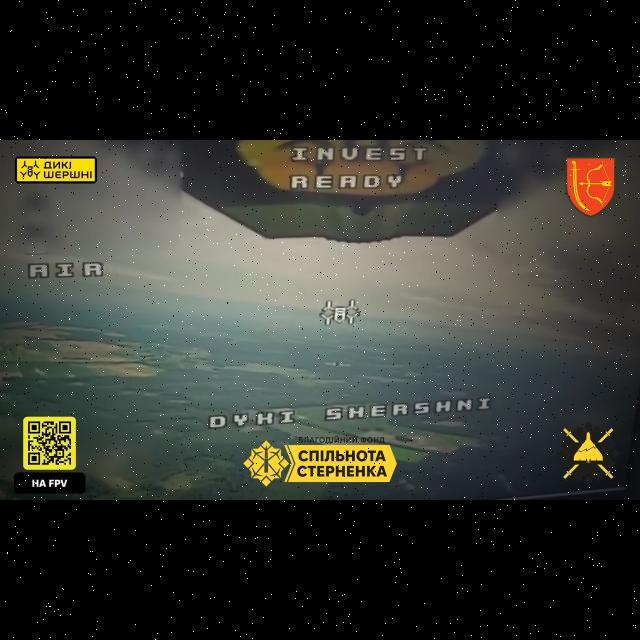Gerbera: (325, 360, 351, 368)
